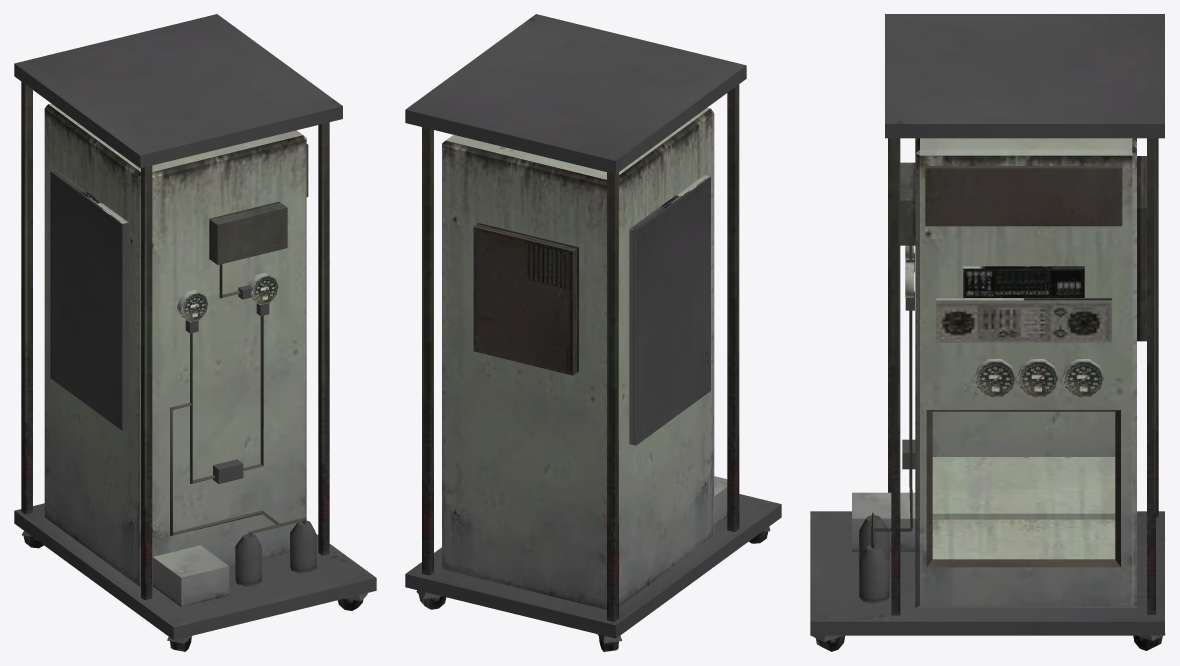
Rendered from reciever_cart.glb.
The picture shows the model from 3 angles, left to right: view 1: azimuth 30°, elevation 25°; view 2: azimuth 150°, elevation 25°; view 3: azimuth 270°, elevation 25°; orthographic projection. The views are drawn at different scales.
Parts seen in each view (by area): view 1: 0_recievers01; view 2: 0_recievers01; view 3: 0_recievers01.
Boxes of the visible parts, x1,y1,x2,y2 form: 0_recievers01: (14, 14, 376, 651); 0_recievers01: (405, 14, 781, 651); 0_recievers01: (810, 14, 1165, 651).
Size of the model in its own units: 0.786 by 1.78 by 1.07.
1 material, 1 textured.
